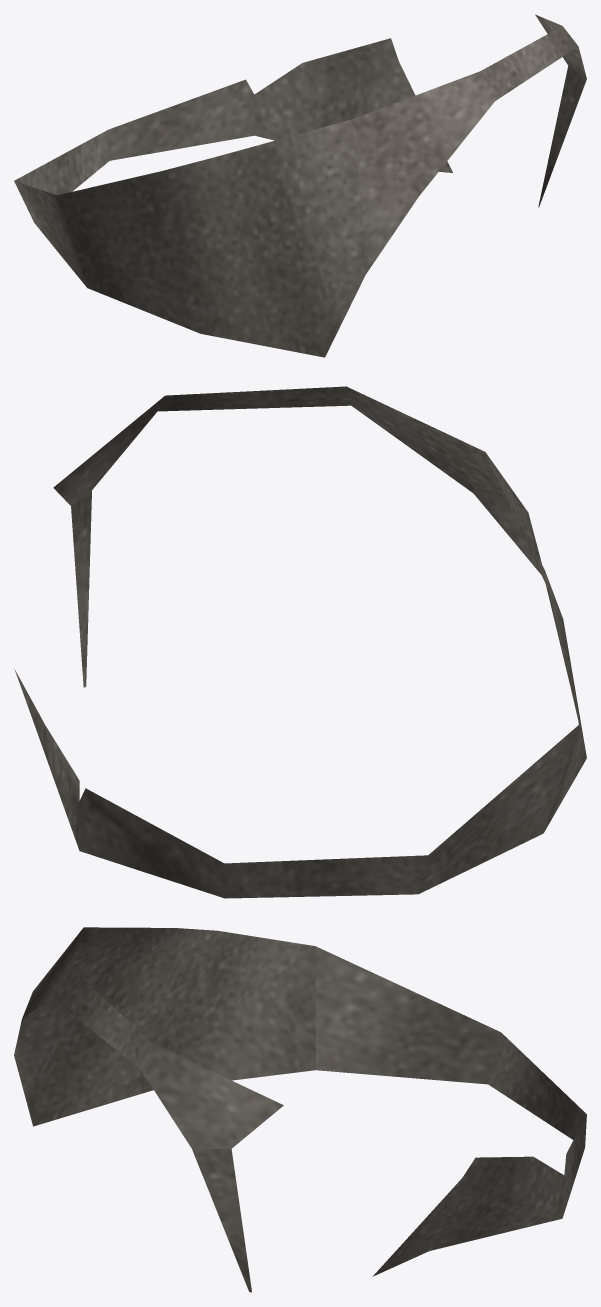
Rendered from rock_spire_0.glb.
3 renders of one model, top to bottom at view 1: azimuth 30°, elevation 25°; view 2: azimuth 150°, elevation 25°; view 3: azimuth 270°, elevation 25°, orthographic. The views are drawn at different scales.
Visible parts, largest first — view 1: rock_spire_0; view 2: rock_spire_0; view 3: rock_spire_0.
Boxes of the visible parts, <box> form: rock_spire_0: <box>14,14,586,357</box>; rock_spire_0: <box>14,386,586,898</box>; rock_spire_0: <box>14,927,586,1292</box>.
Size of the model in its own units: 2.79 by 1.3 by 2.71.
Materials: 1 (1 with a texture image).
